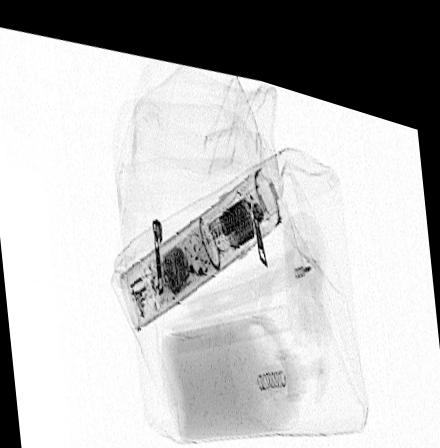Baton: (118, 151, 281, 324)
